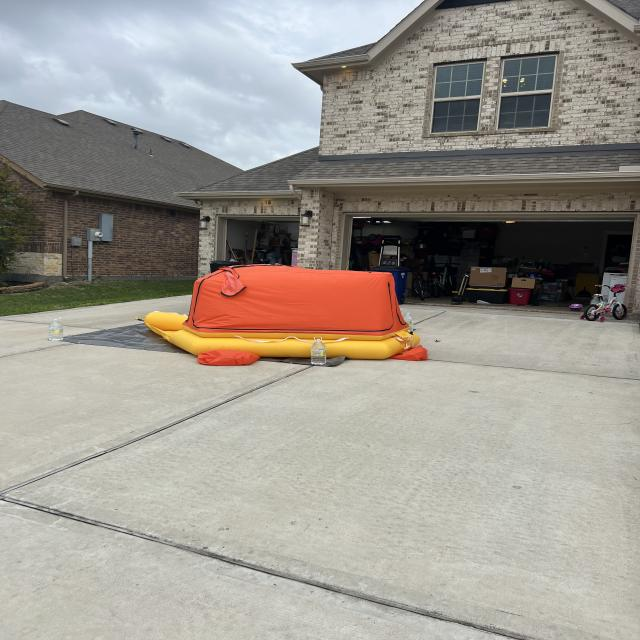Multi-person_life_raft: (144, 265, 429, 366)
